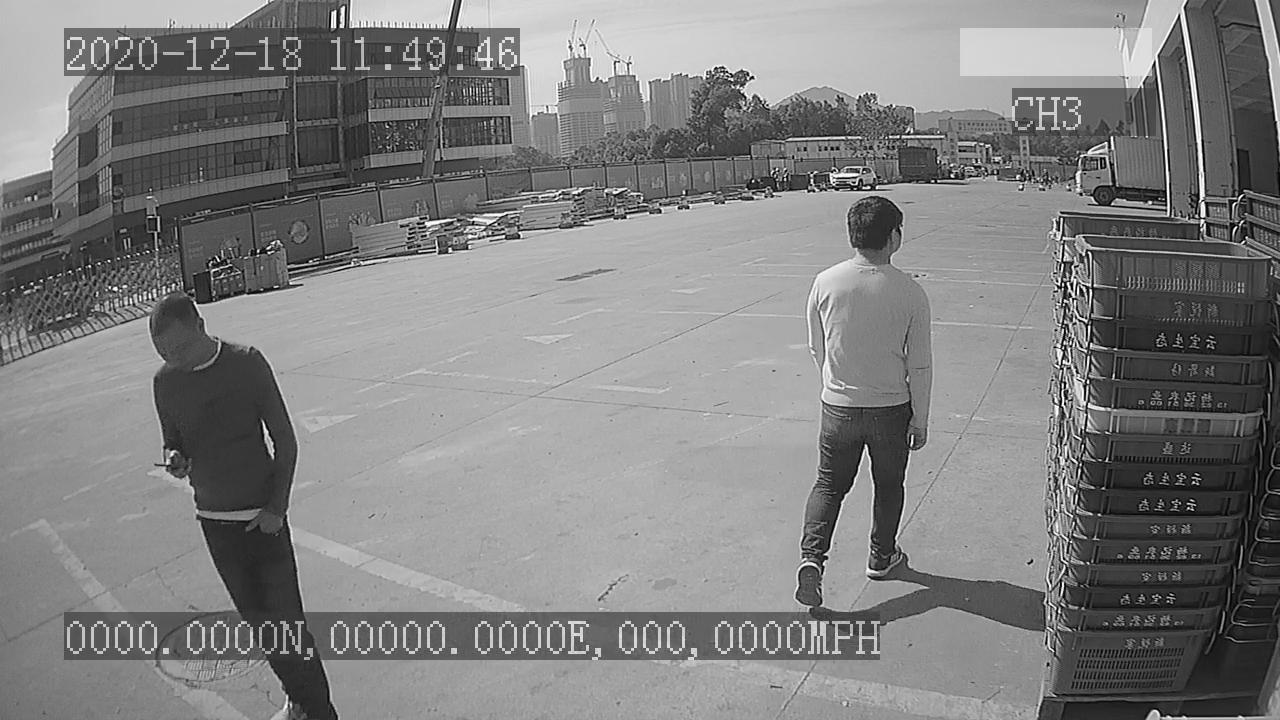person: (792, 192, 938, 613)
